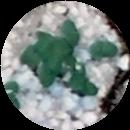Basil: (36, 32, 71, 54), (37, 56, 64, 84), (65, 73, 96, 95), (22, 40, 49, 64), (65, 21, 88, 46), (84, 41, 117, 56)
